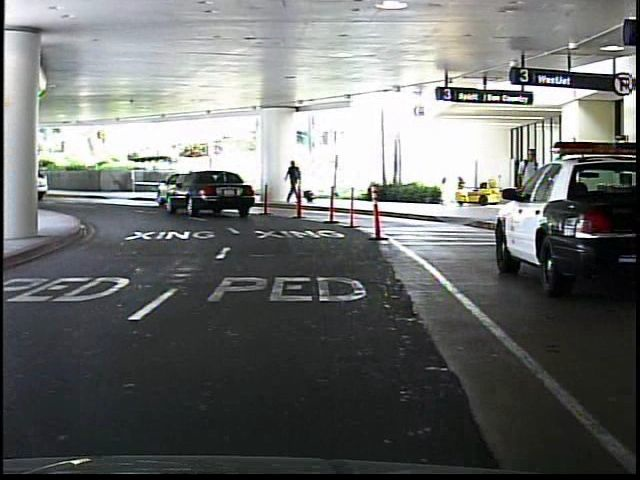person: (514, 144, 541, 231), (281, 159, 309, 209)
